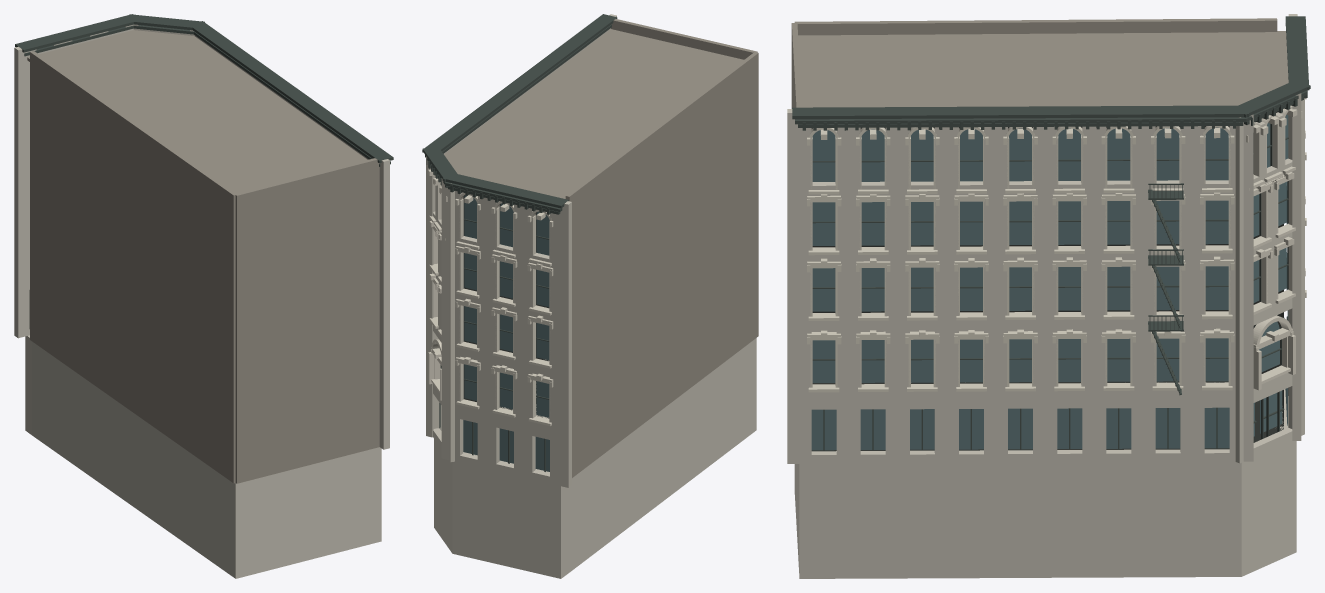
File: washington_block.glb
The picture shows the model from 3 angles, left to right: view 1: azimuth 30°, elevation 25°; view 2: azimuth 150°, elevation 25°; view 3: azimuth 270°, elevation 25°; orthographic projection. The views are drawn at different scales.
Parts seen in each view (by area): view 1: Unsurveyed party masonry and roof, Limestone facade, Dark sash and cornice; view 2: Unsurveyed party masonry and roof, Limestone facade, Projecting carved limestone surrounds, Dark sash and cornice, Separate recessed opaque panes, Opaque interior backing; view 3: Limestone facade, Separate recessed opaque panes, Unsurveyed party masonry and roof, Projecting carved limestone surrounds, Dark sash and cornice, Opaque interior backing.
Part boxes in pixels (x1=…): Unsurveyed party masonry and roof: x1=27, y1=30, x2=379, y2=483; Limestone facade: x1=14, y1=24, x2=389, y2=578; Dark sash and cornice: x1=15, y1=14, x2=393, y2=328; Unsurveyed party masonry and roof: x1=444, y1=19, x2=758, y2=477; Limestone facade: x1=426, y1=14, x2=756, y2=578; Projecting carved limestone surrounds: x1=428, y1=169, x2=553, y2=426; Dark sash and cornice: x1=422, y1=14, x2=617, y2=471; Separate recessed opaque panes: x1=463, y1=195, x2=549, y2=471; Opaque interior backing: x1=463, y1=195, x2=549, y2=418; Limestone facade: x1=787, y1=14, x2=1304, y2=578; Separate recessed opaque panes: x1=811, y1=114, x2=1288, y2=450; Unsurveyed party masonry and roof: x1=791, y1=18, x2=1288, y2=108; Projecting carved limestone surrounds: x1=807, y1=98, x2=1306, y2=392; Dark sash and cornice: x1=792, y1=16, x2=1310, y2=451; Opaque interior backing: x1=811, y1=112, x2=1283, y2=451.
Size of the model in its own units: 15.58 by 32.01 by 32.42.
